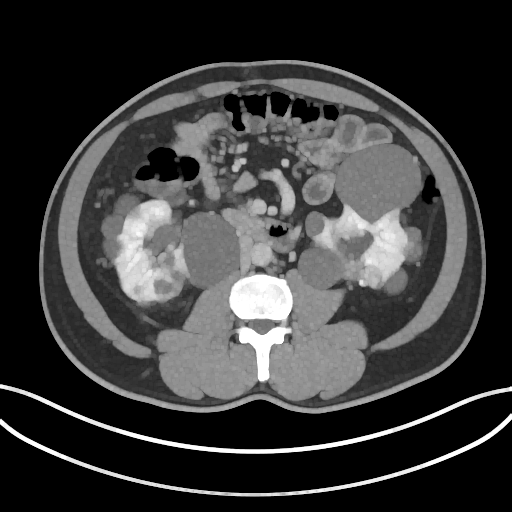Lesion: (360, 263, 387, 292)
